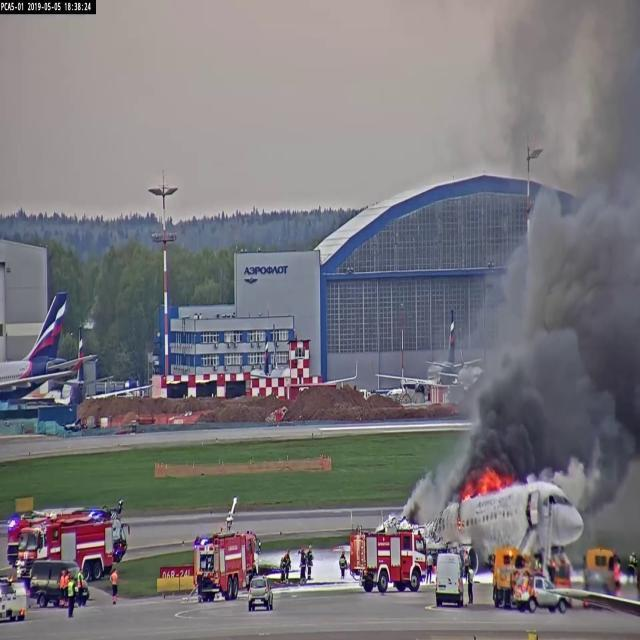Fire: (465, 470, 507, 502)
Smoke: (527, 192, 640, 450), (470, 362, 545, 470)
